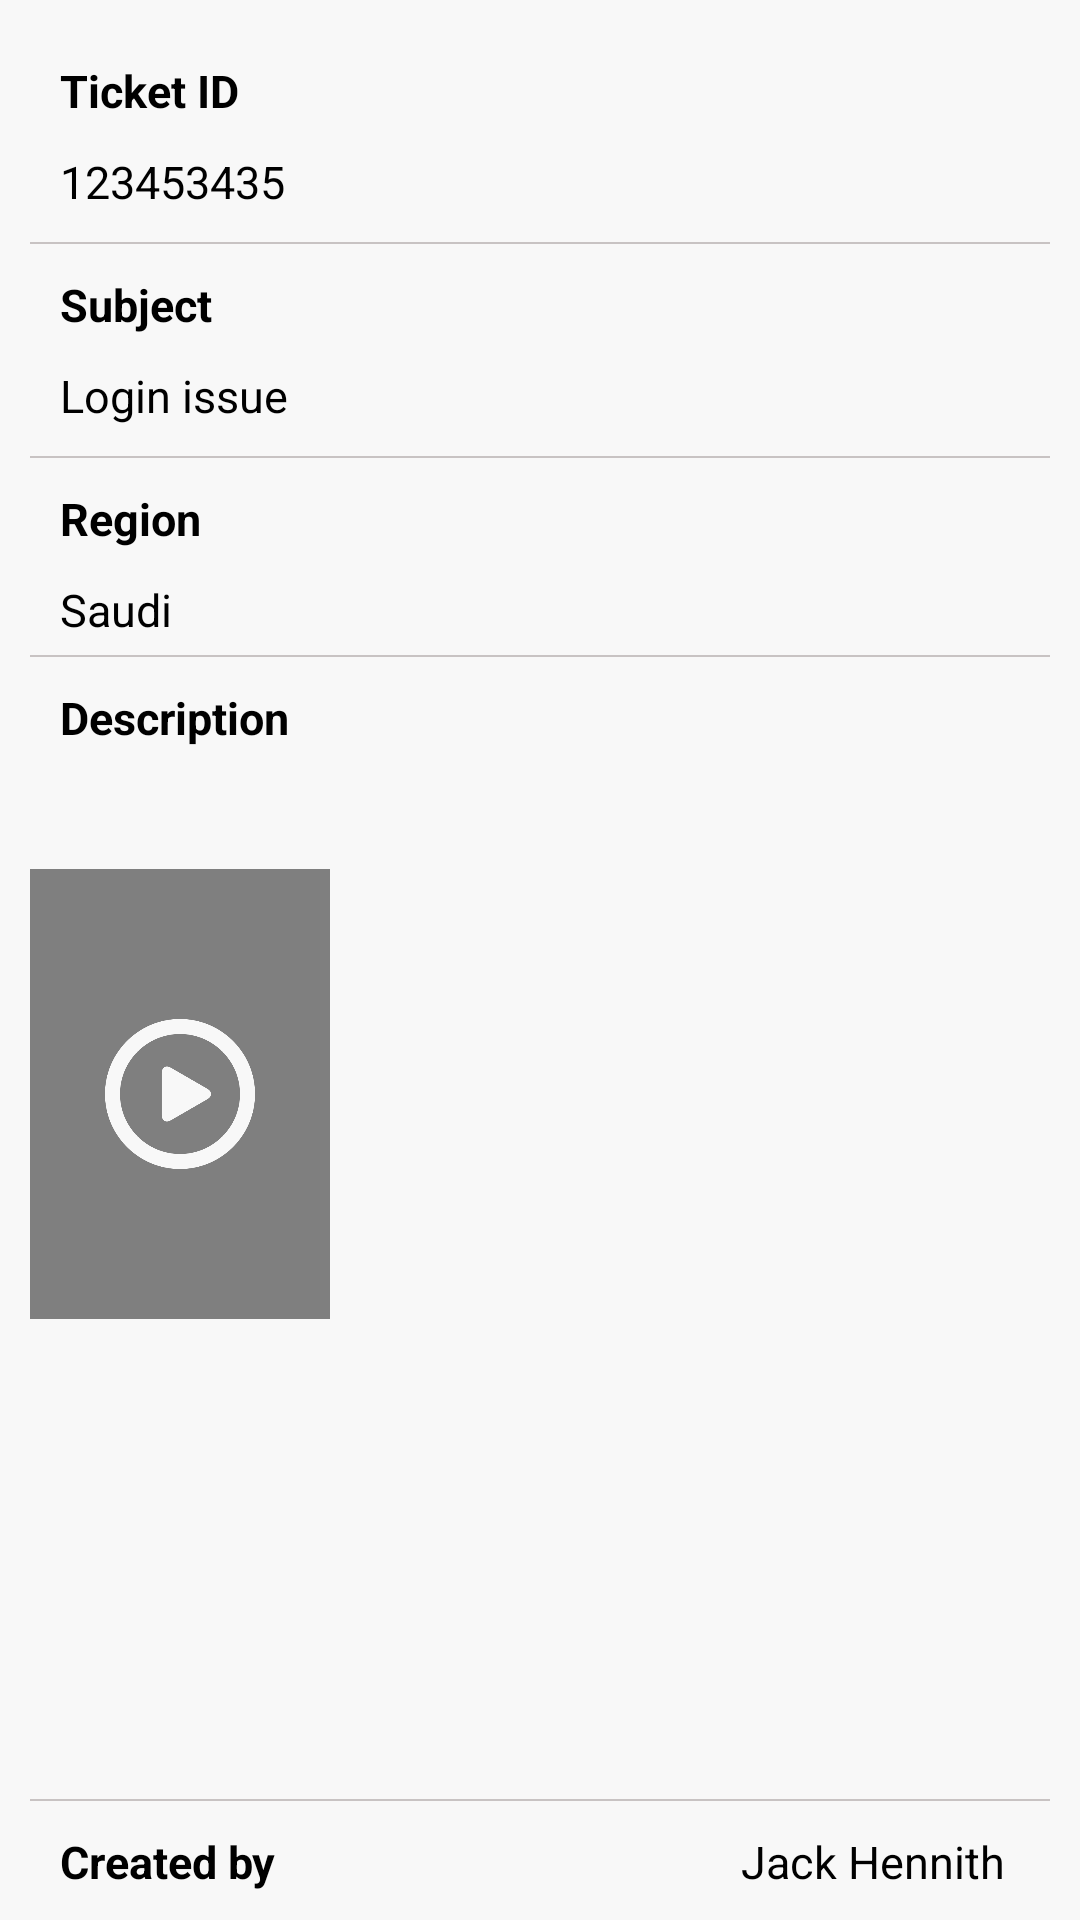

Screen size 1080×1920. Icon name, then its box in pixels as (x1, y1, x2, y2):
play: (105, 1019, 255, 1169)
